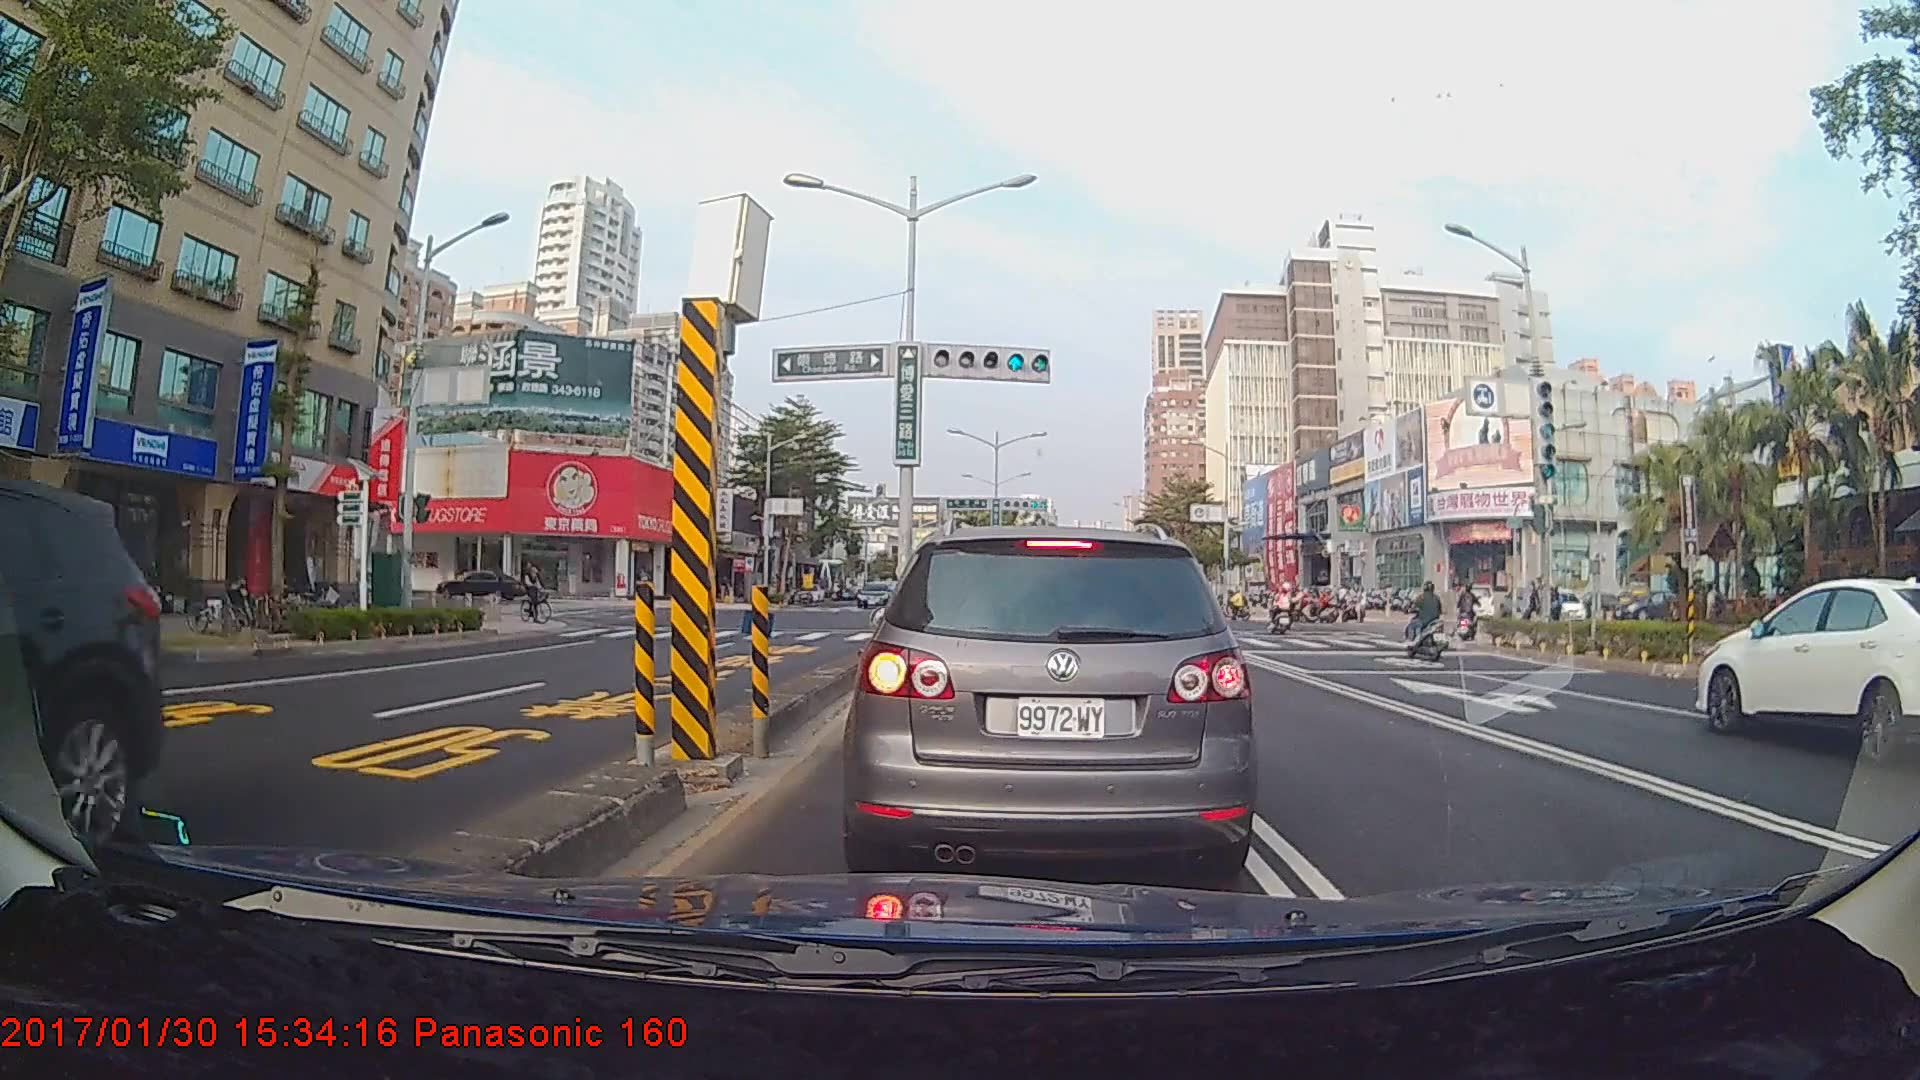pedestrian: (1704, 582, 1726, 642)
rider: (1404, 580, 1459, 662), (518, 559, 561, 629), (1449, 582, 1479, 646), (1270, 580, 1299, 640)
vehicle: (855, 521, 1251, 876), (0, 470, 163, 850), (1697, 575, 1920, 756), (434, 568, 525, 601), (856, 581, 894, 609)
